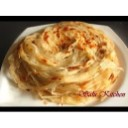parota: (10, 49, 119, 102), (19, 22, 110, 82)
